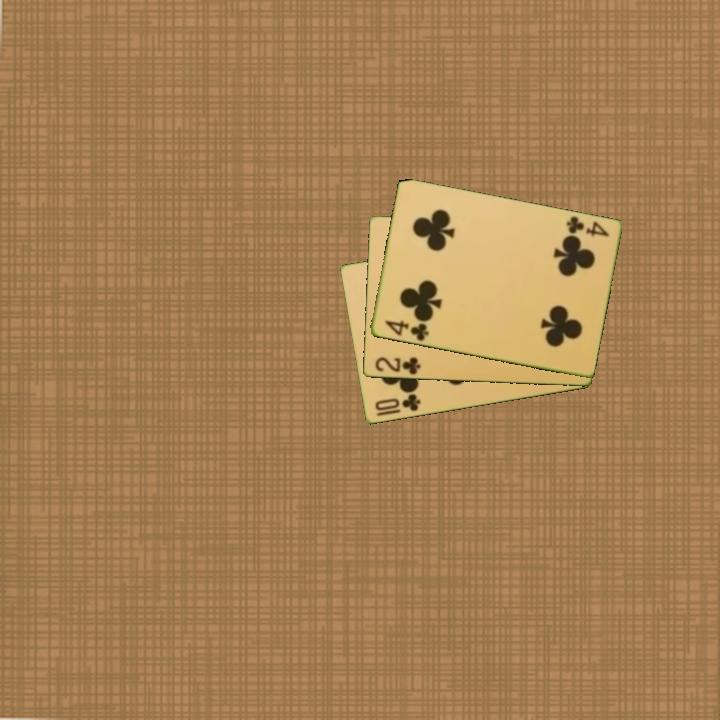10c: (371, 391, 423, 414)
2c: (372, 354, 423, 378)
4c: (381, 317, 431, 344), (562, 213, 612, 240)
